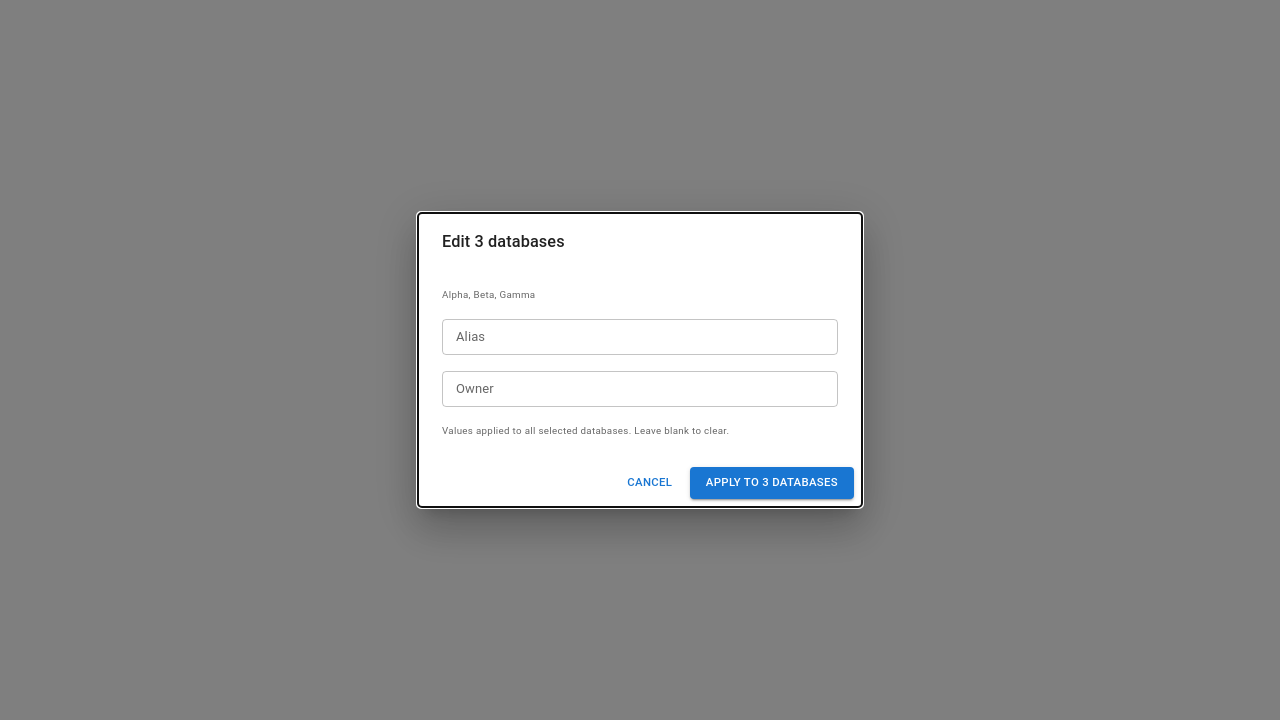
Test: DbBulkEditDialog › resets confirm state when owner field is edited after both-empty click
Click the button with test id "apply-btn": (772, 483) [690,467,854,499]
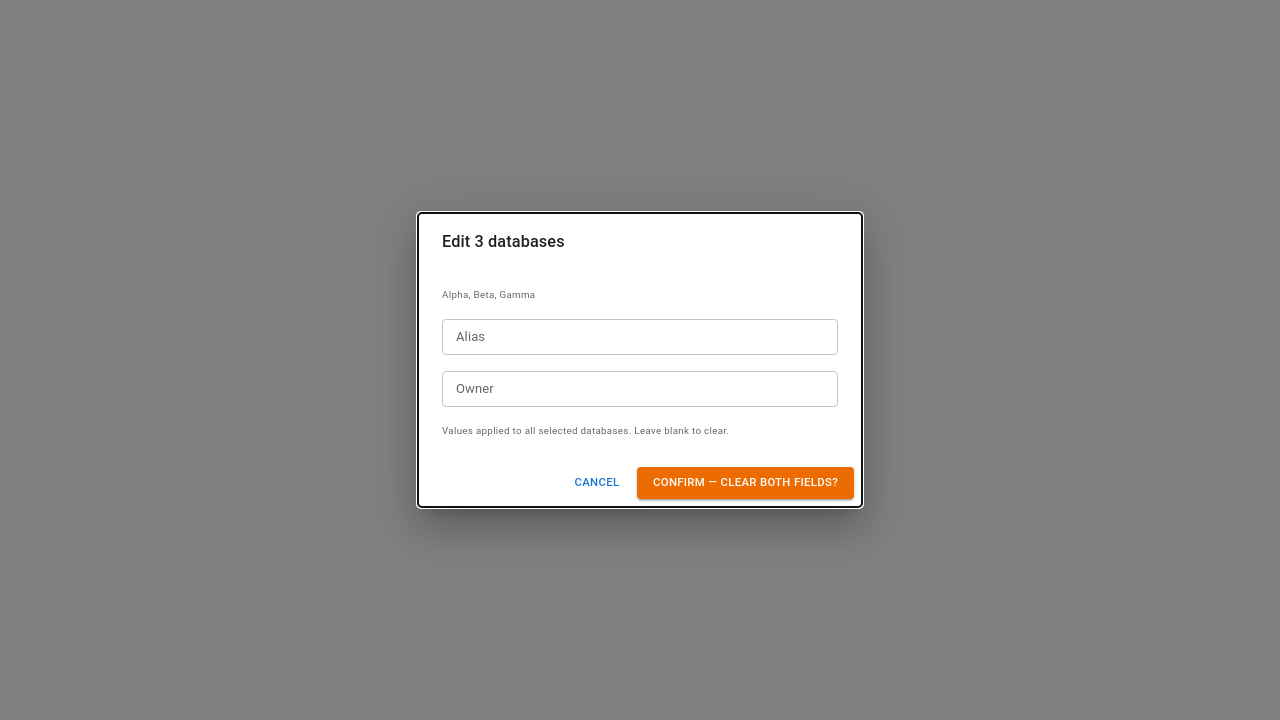
Expected: the button with test id "apply-btn" shows "Confirm", [637,467,854,499]
In the dropdown with test id "owner-input": (624, 389) [448,377,799,401], type "x"
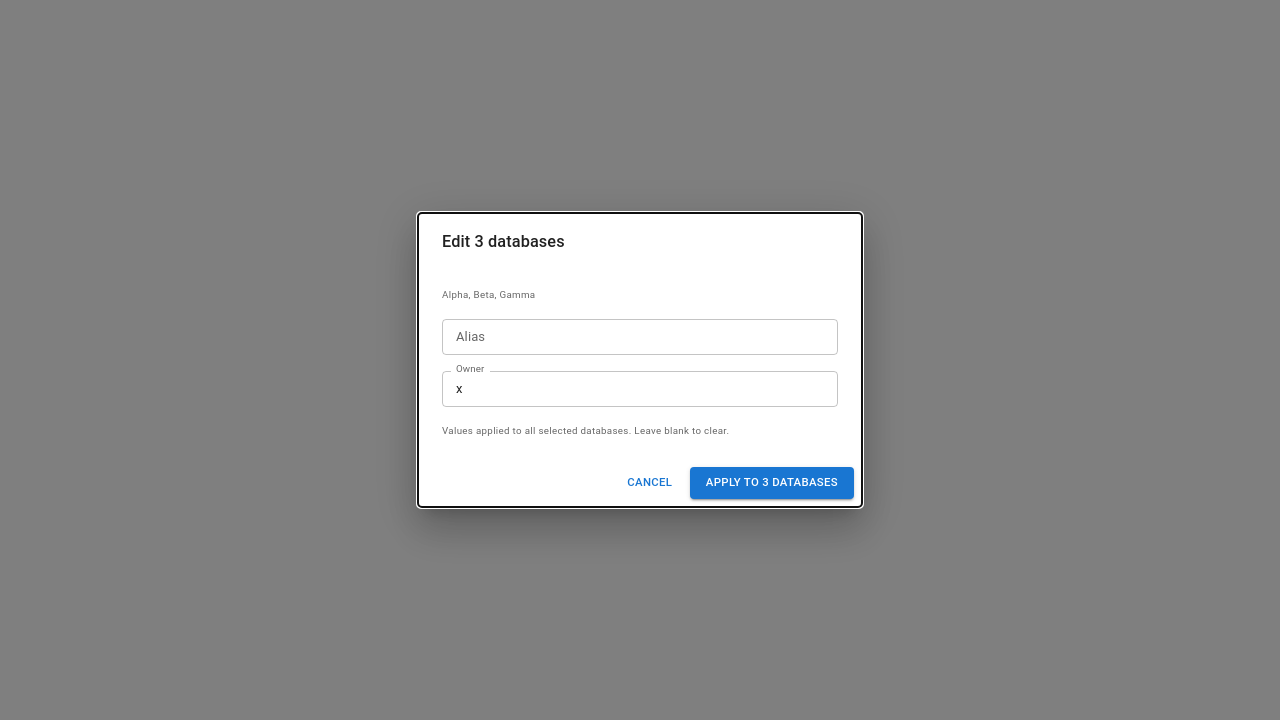
Expected: the button with test id "apply-btn" shows "Apply to 3", [690,467,854,499]
